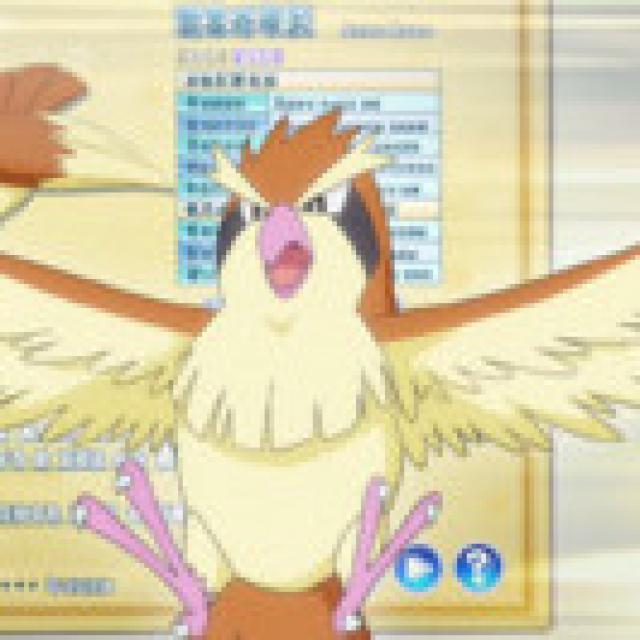Pidgey: (77, 114, 477, 604)
